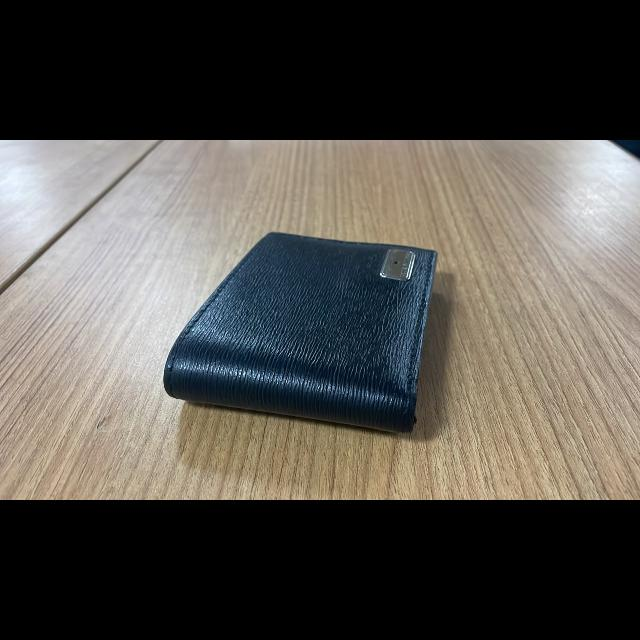wallet: (146, 208, 456, 444)
